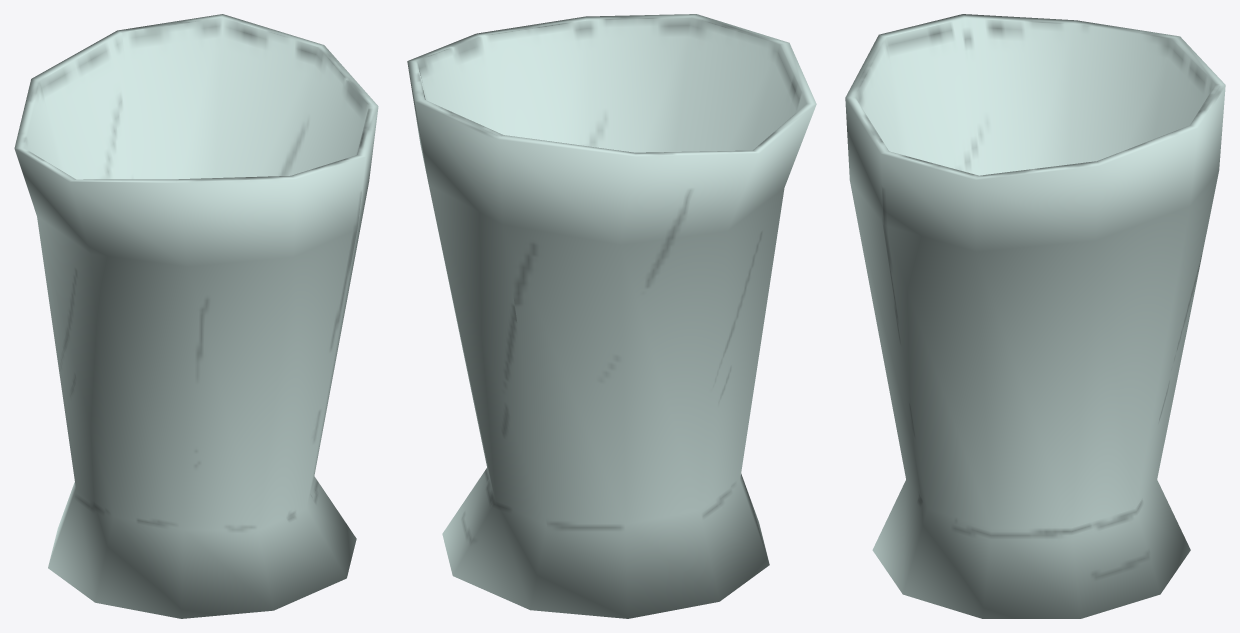
File: Glass.fbx
3 views of the same model, side by side, from view 1: azimuth 30°, elevation 25°; view 2: azimuth 150°, elevation 25°; view 3: azimuth 270°, elevation 25° (orthographic). The views are drawn at different scales.
Visible parts, largest first — view 1: Glass; view 2: Glass; view 3: Glass.
Part boxes in pixels (x1,y1,x2,y2): Glass: (14, 14, 378, 618); Glass: (407, 14, 816, 618); Glass: (845, 14, 1225, 618).
Size of the model in its own units: 18.75 by 25.49 by 18.47.
